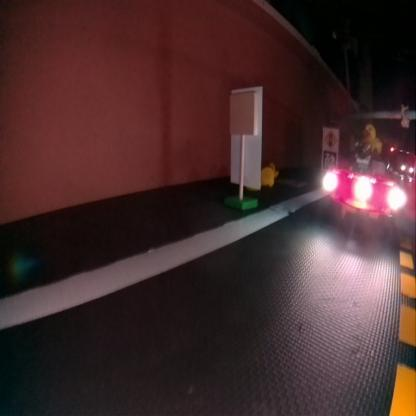Duckie: (362, 124, 382, 152), (261, 166, 273, 186)
Duckiebot: (322, 146, 406, 230), (397, 159, 413, 177)
QR code: (322, 153, 336, 169)
Signal sign: (324, 130, 337, 146)
